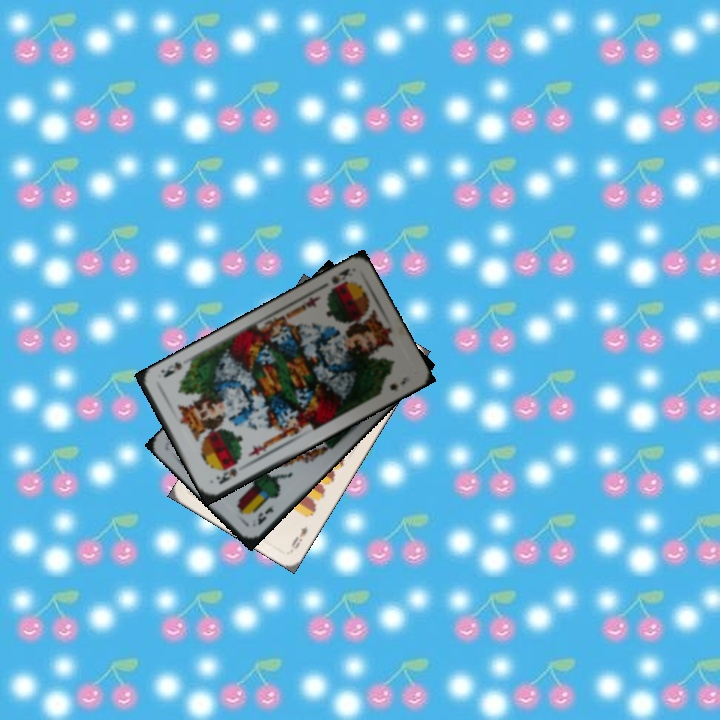E9: (287, 523, 310, 552)
EK: (253, 503, 276, 528)
SK: (212, 464, 239, 487), (327, 264, 353, 287)
